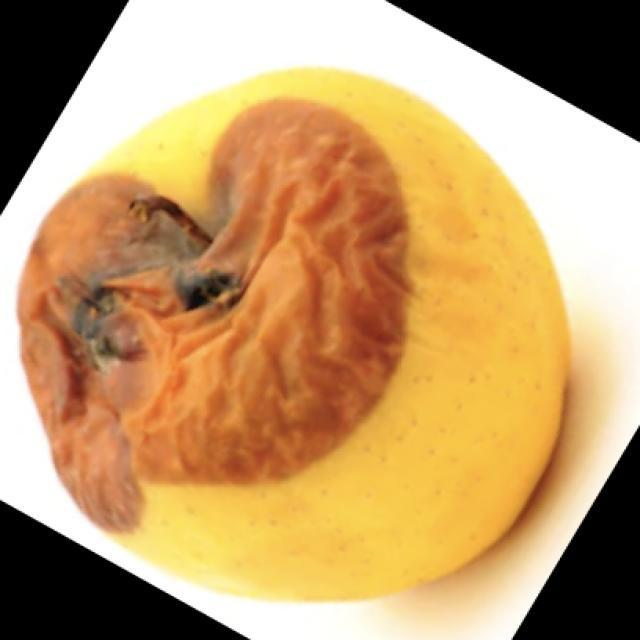Rotten: (33, 82, 552, 575)
